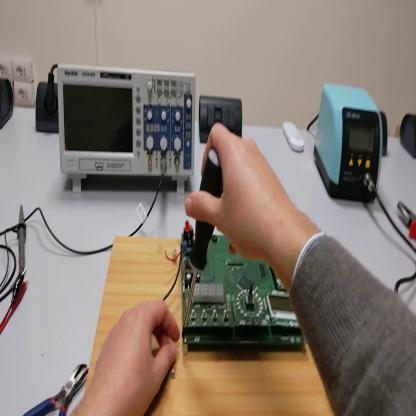hand: (188, 122, 292, 267), (85, 302, 181, 414)
low voltage board: (163, 223, 308, 348)
oscilloscope: (61, 64, 195, 196)
oscilloscope probe tip: (20, 207, 26, 272)
pliers: (24, 362, 87, 415), (398, 198, 416, 243)
screwdriver-: (181, 154, 223, 341)
socket: (36, 81, 59, 136), (401, 112, 415, 162), (2, 79, 15, 130), (381, 111, 388, 156)
welder station: (315, 85, 384, 206)
working area: (84, 238, 332, 416)
